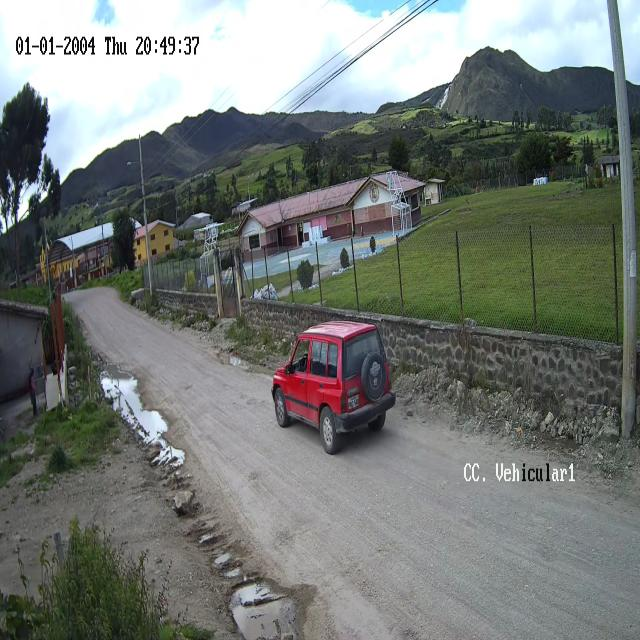SUV: (272, 320, 395, 456)
